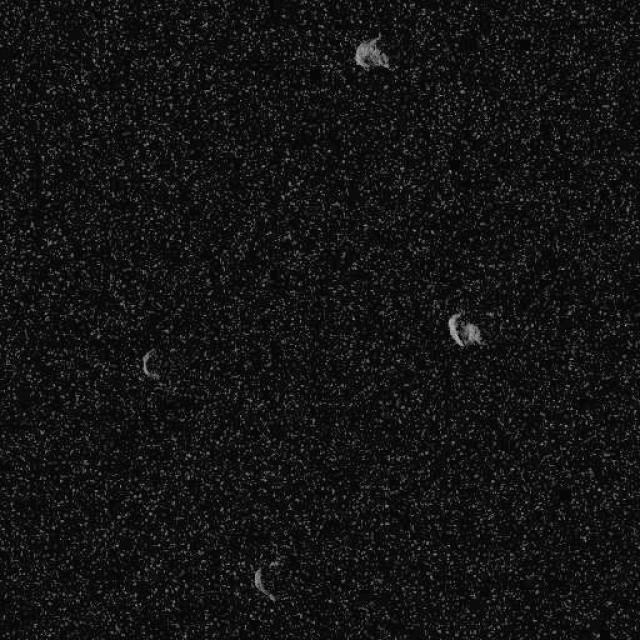D2: (446, 310, 484, 349), (352, 34, 390, 71), (252, 566, 276, 602), (140, 346, 162, 382)
